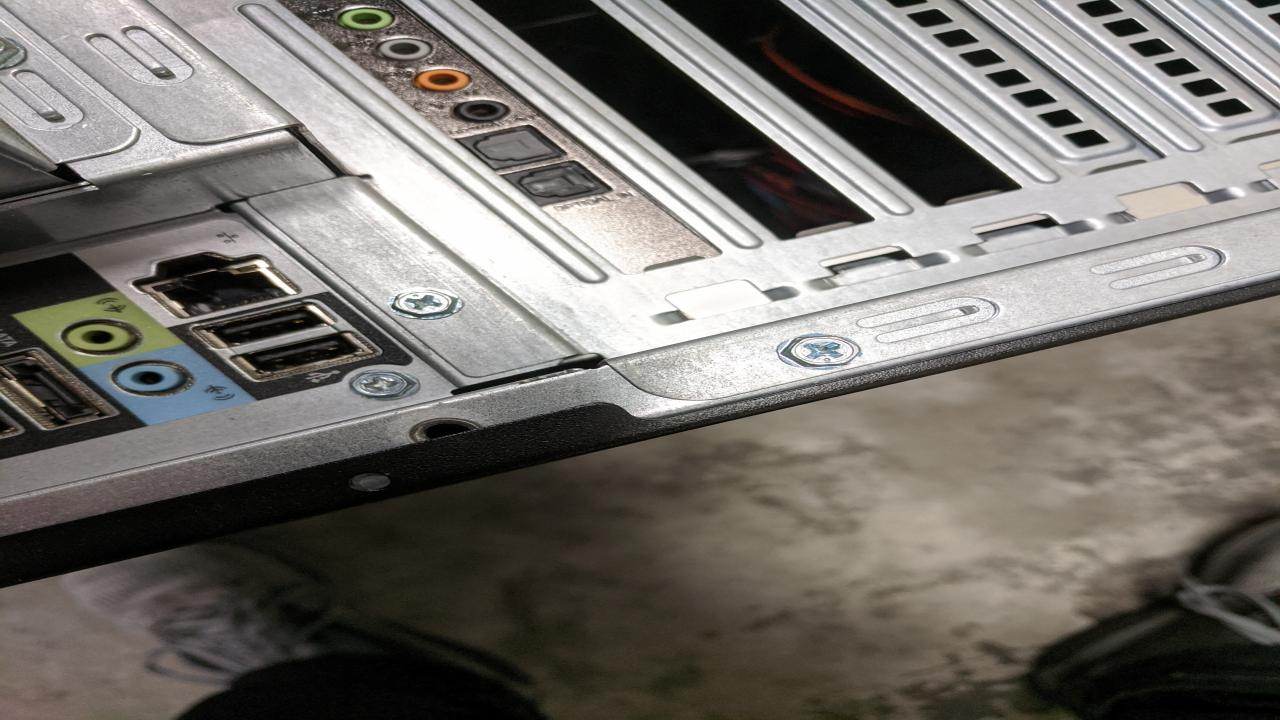CRS: (776, 334, 869, 371), (347, 369, 422, 402), (386, 290, 458, 322)
